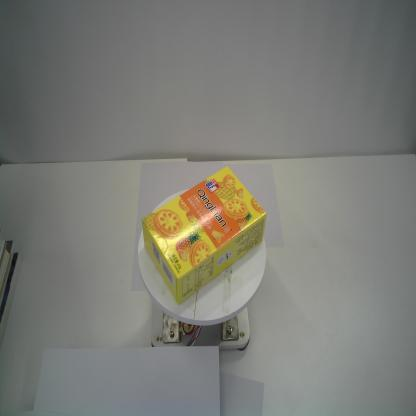Dessert: (140, 166, 267, 304)
